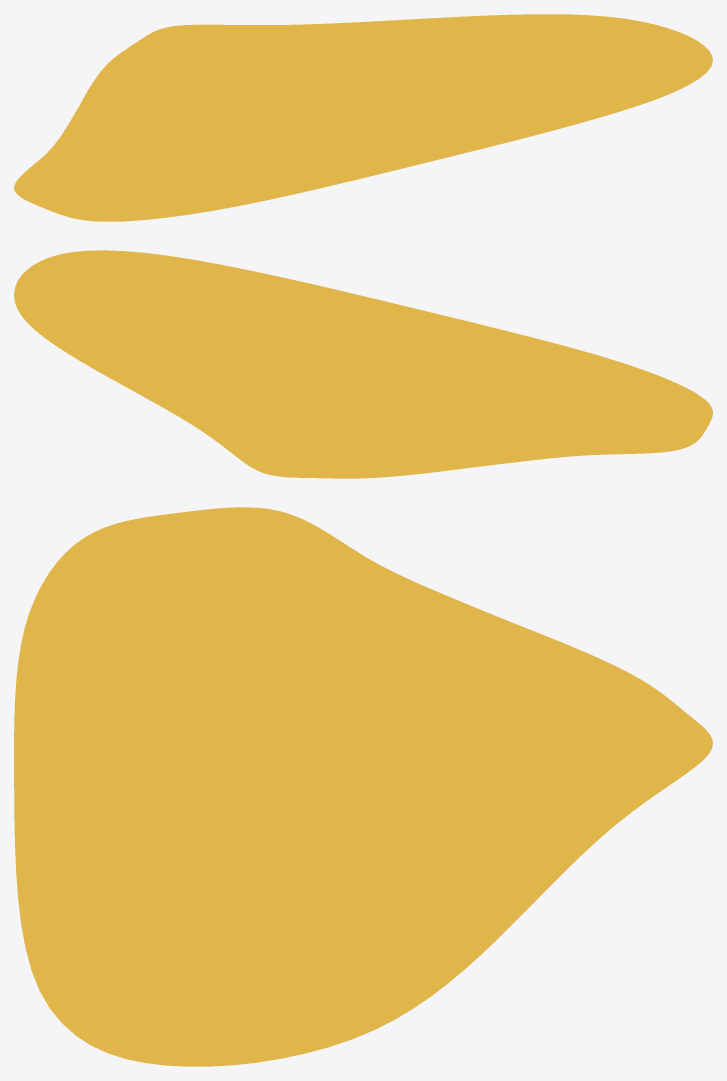
Rendered from RecorridoLaBoca-OLD.gltf.
3 views of the same model, one above another, from view 1: azimuth 30°, elevation 25°; view 2: azimuth 150°, elevation 25°; view 3: azimuth 270°, elevation 25° (orthographic). The views are drawn at different scales.
Visible parts, largest first — view 1: RecorridoLaBoca; view 2: RecorridoLaBoca; view 3: RecorridoLaBoca.
Boxes of the visible parts, x1=… form: RecorridoLaBoca: x1=14, y1=14, x2=712, y2=221; RecorridoLaBoca: x1=14, y1=250, x2=712, y2=478; RecorridoLaBoca: x1=14, y1=507, x2=712, y2=1066.
Size of the model in its own units: 6.73 by 0 by 3.56.
